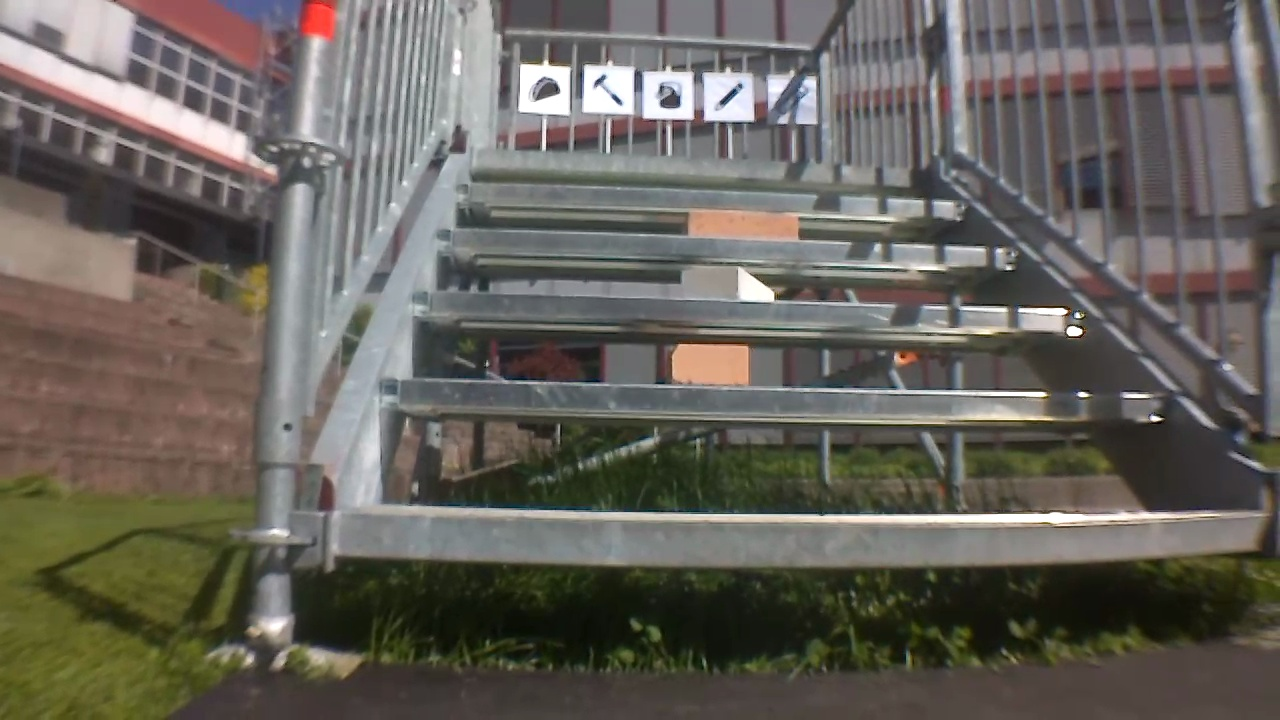brick: (654, 340, 754, 389), (672, 267, 787, 303), (686, 212, 802, 241)
edge: (323, 508, 1280, 565), (389, 382, 1184, 433), (446, 228, 1025, 267), (475, 141, 935, 186), (450, 187, 971, 220), (418, 302, 1091, 326)
hammer: (589, 67, 624, 109)
pencil: (715, 83, 746, 113)
ruler: (773, 85, 815, 120)
stairs: (230, 0, 1280, 672)
steps: (301, 149, 1280, 555)
taco: (528, 78, 559, 103)
